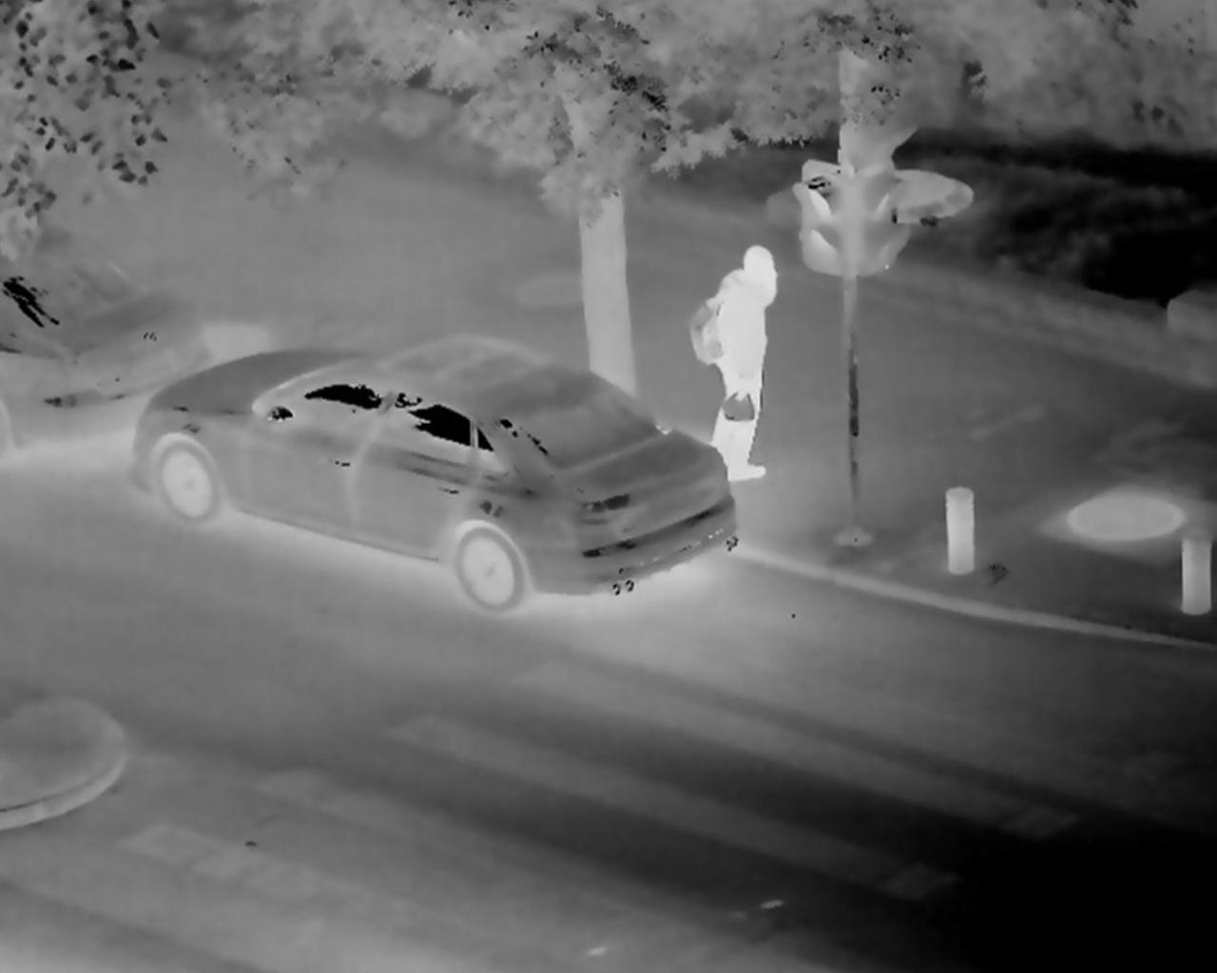person: (686, 238, 780, 490)
